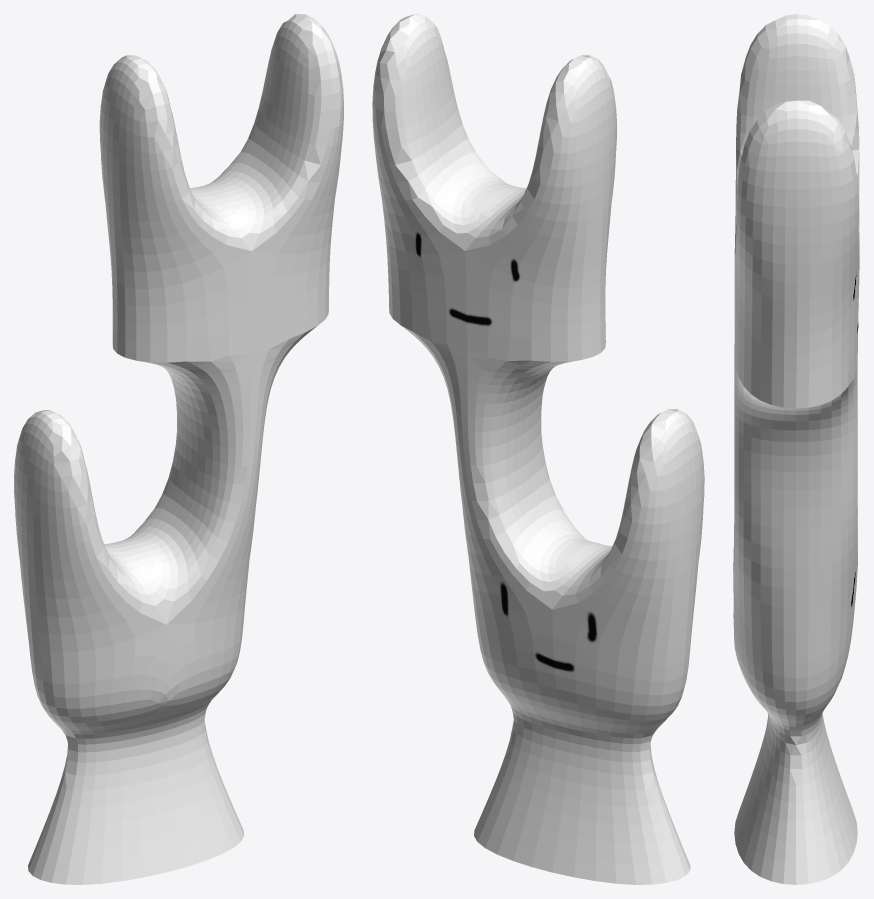
File: usagi.glb
3 renders of one model, left to right at view 1: azimuth 30°, elevation 25°; view 2: azimuth 150°, elevation 25°; view 3: azimuth 270°, elevation 25°, orthographic. The views are drawn at different scales.
Visible parts, largest first — view 1: 平面; view 2: 平面; view 3: 平面.
Part boxes in pixels (x1=…): 平面: x1=14, y1=14, x2=343, y2=884; 平面: x1=372, y1=14, x2=704, y2=884; 平面: x1=733, y1=14, x2=859, y2=884.
Size of the model in its own units: 5.42 by 13.42 by 1.88.
1 material, 1 textured.
